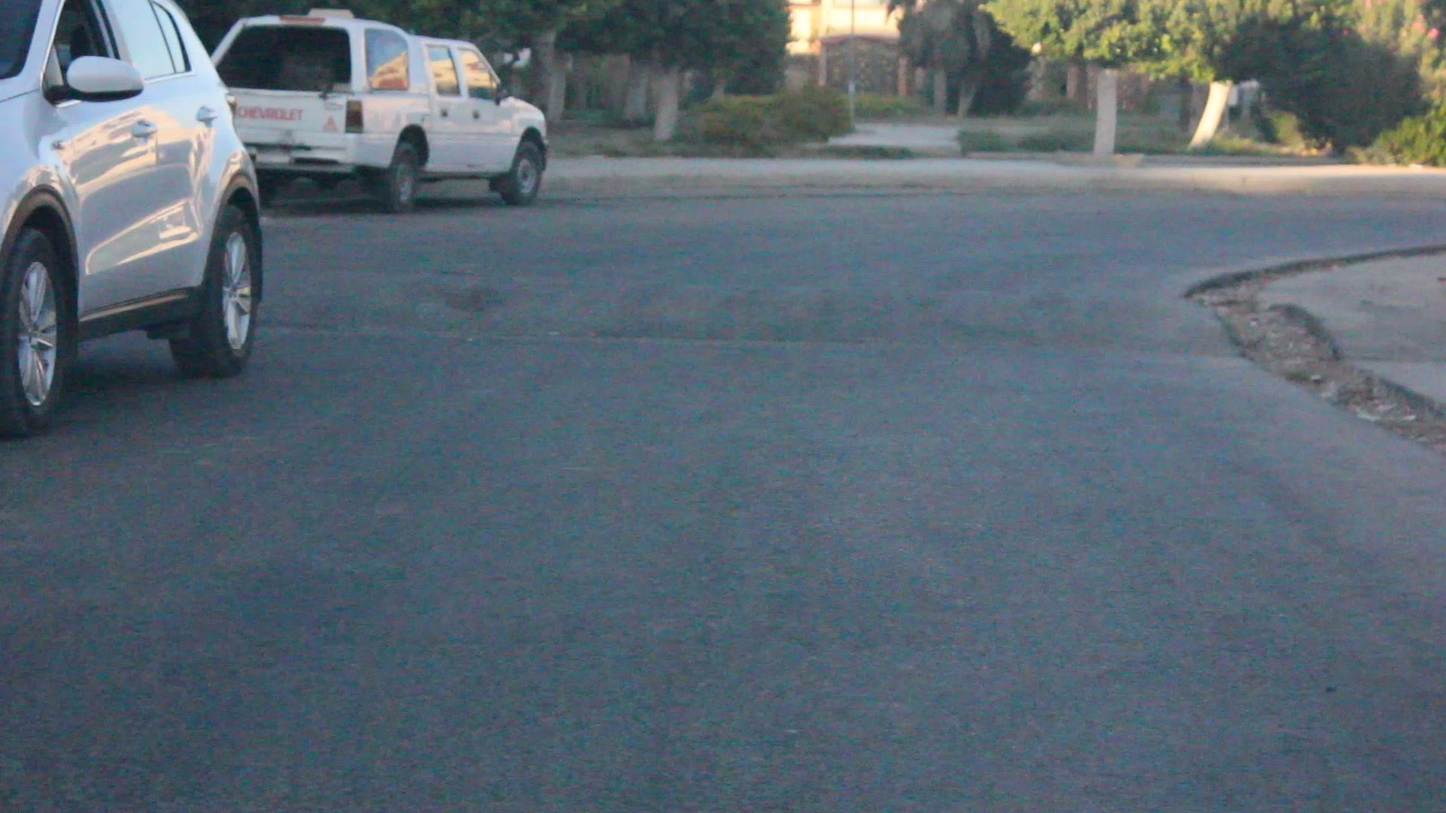Bump: (281, 262, 1237, 375)
